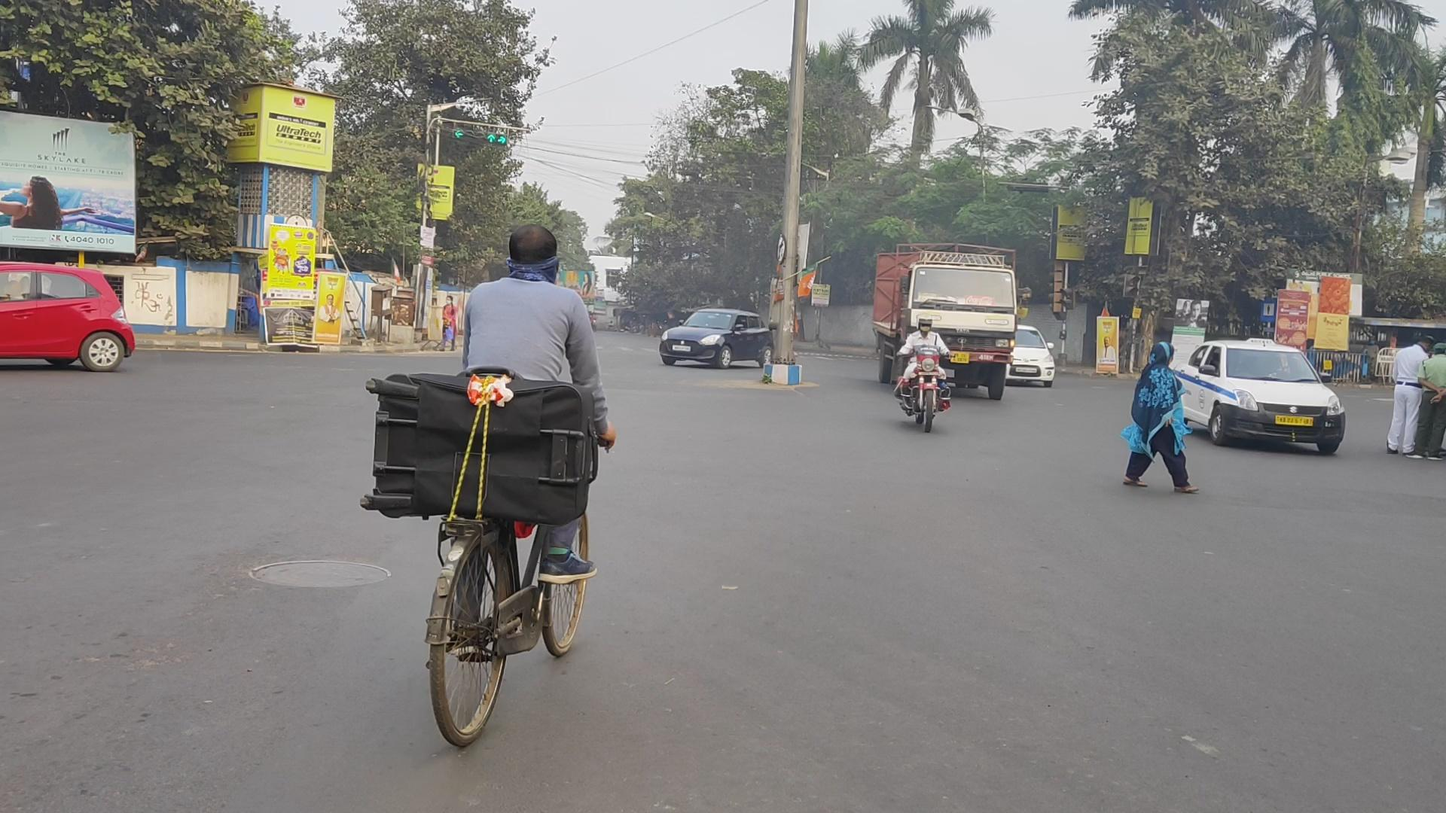bike: (365, 227, 618, 749), (892, 312, 956, 433)
car: (1174, 335, 1346, 458), (2, 258, 136, 373), (660, 307, 777, 371), (1003, 324, 1057, 389)
truck: (871, 241, 1020, 400)
